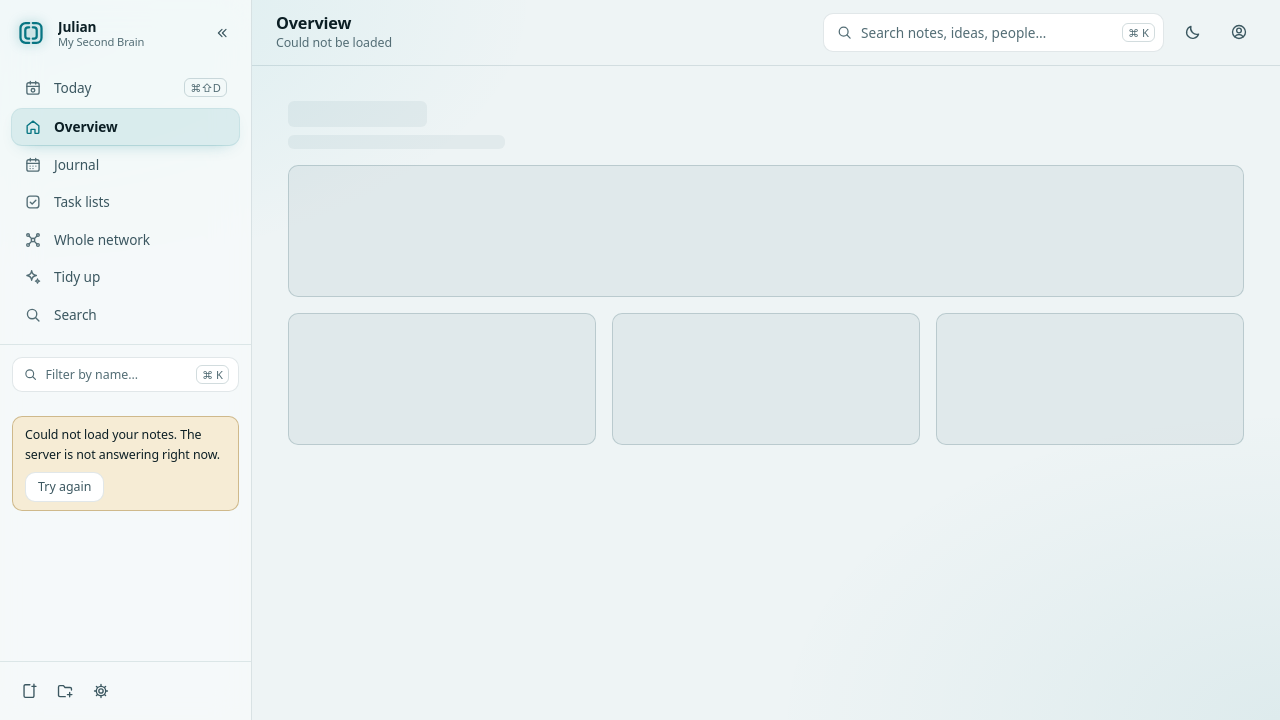
Test: a failed tree request › offers a way to ask again, and asks again when it is taken
Expected: the message "Could not load your notes. The server is not answering right now. Try again" is shown, [12,416,239,511]
Step 1. Click the button "Try again" → [65, 487], box [25,472,104,502]
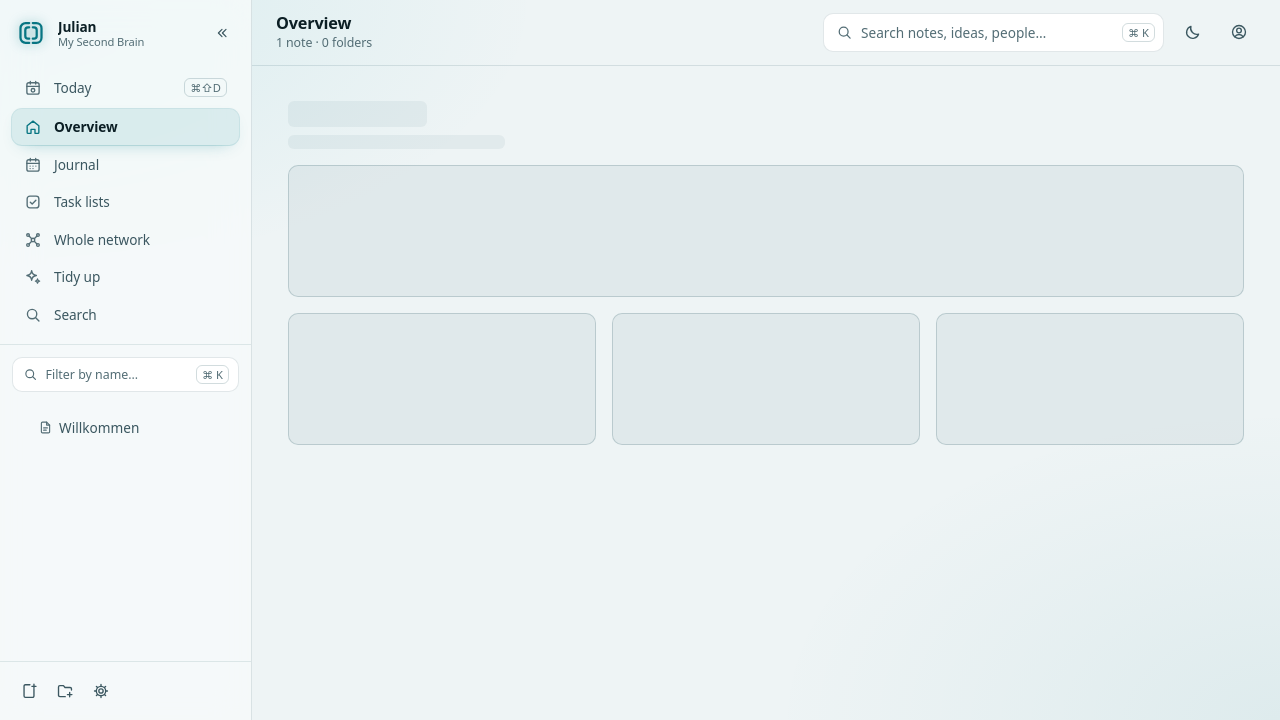
Now the text "Willkommen" is shown, box [59,417,139,438]
